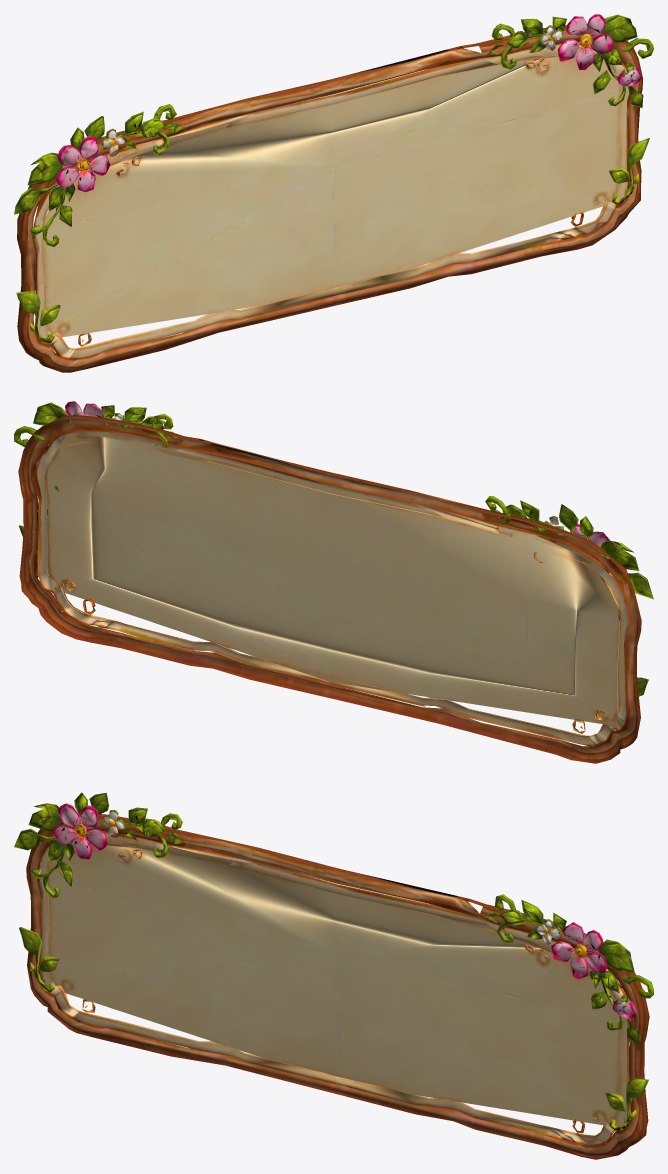
Rendered from noticeboard.glb.
3 renders of one model, top to bottom at view 1: azimuth 30°, elevation 25°; view 2: azimuth 150°, elevation 25°; view 3: azimuth 330°, elevation 25°, orthographic.
Visible parts, largest first — view 1: geometry_0; view 2: geometry_0; view 3: geometry_0.
Boxes of the visible parts, x1,y1,x2,y2 form: geometry_0: (14,14,653,372); geometry_0: (14,401,653,763); geometry_0: (14,792,653,1159).
Bounding box in the file's own units: 0.9536 × 0.356 × 0.0229.
Materials: 1 (1 with a texture image).
